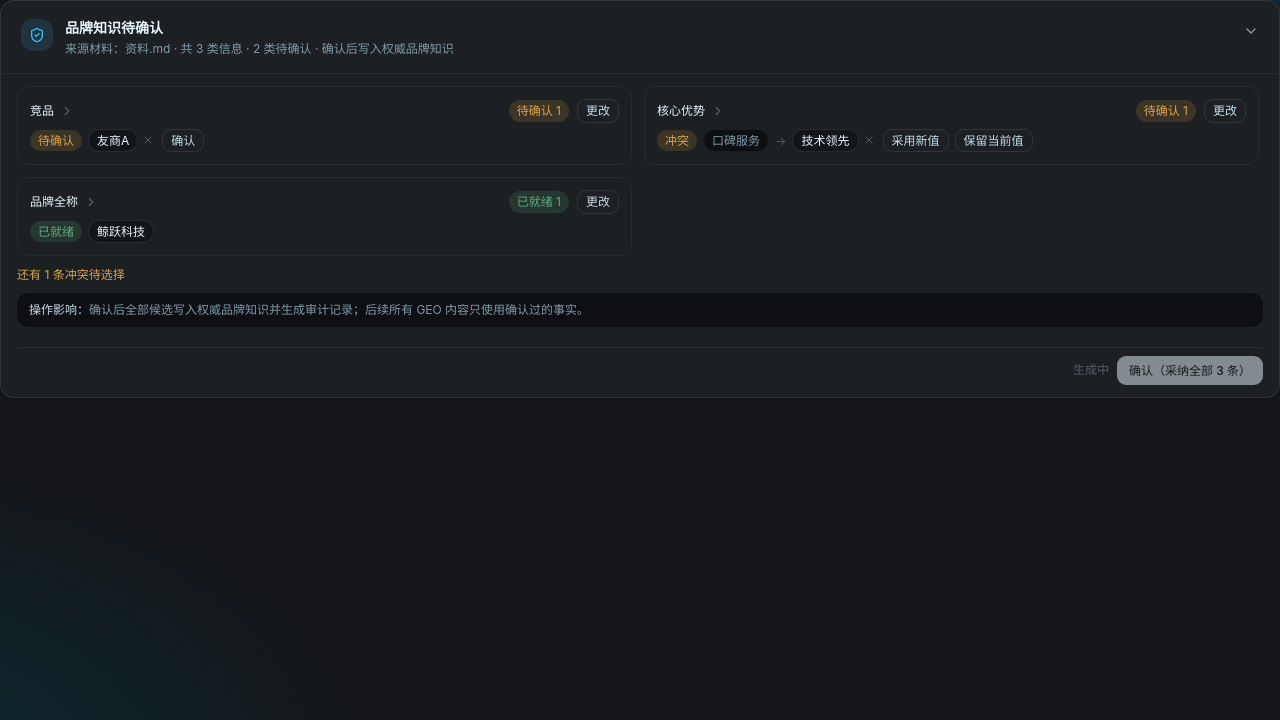
KnowledgeBatchCard（字段行复核卡） › 一次确认整卡全量采纳：未碰过的补全行也 adopt-new，冲突行按内联选择提交
The width and height of the screenshot is (1280, 720).
Click the button with aria-label "保留当前值：核心优势": (994, 140) [954,129,1032,152]
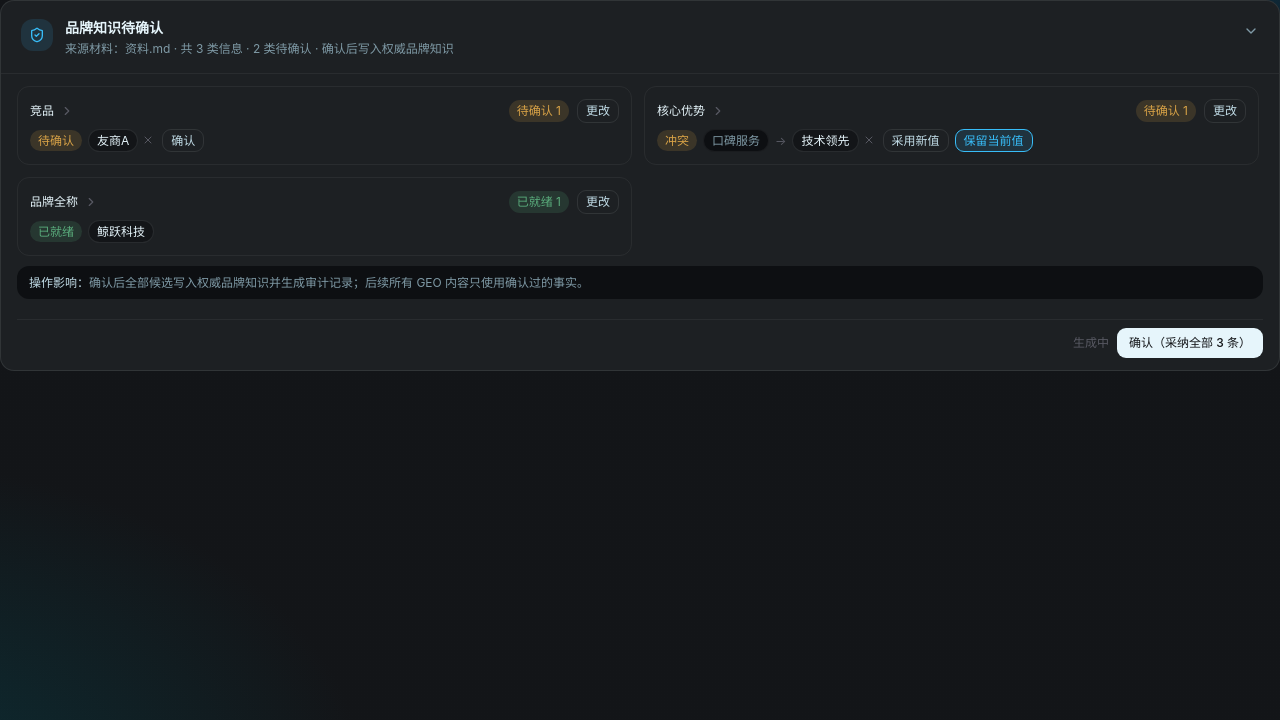
Click the button "确认（采纳全部 3 条）": (1190, 343) [1117,328,1263,358]
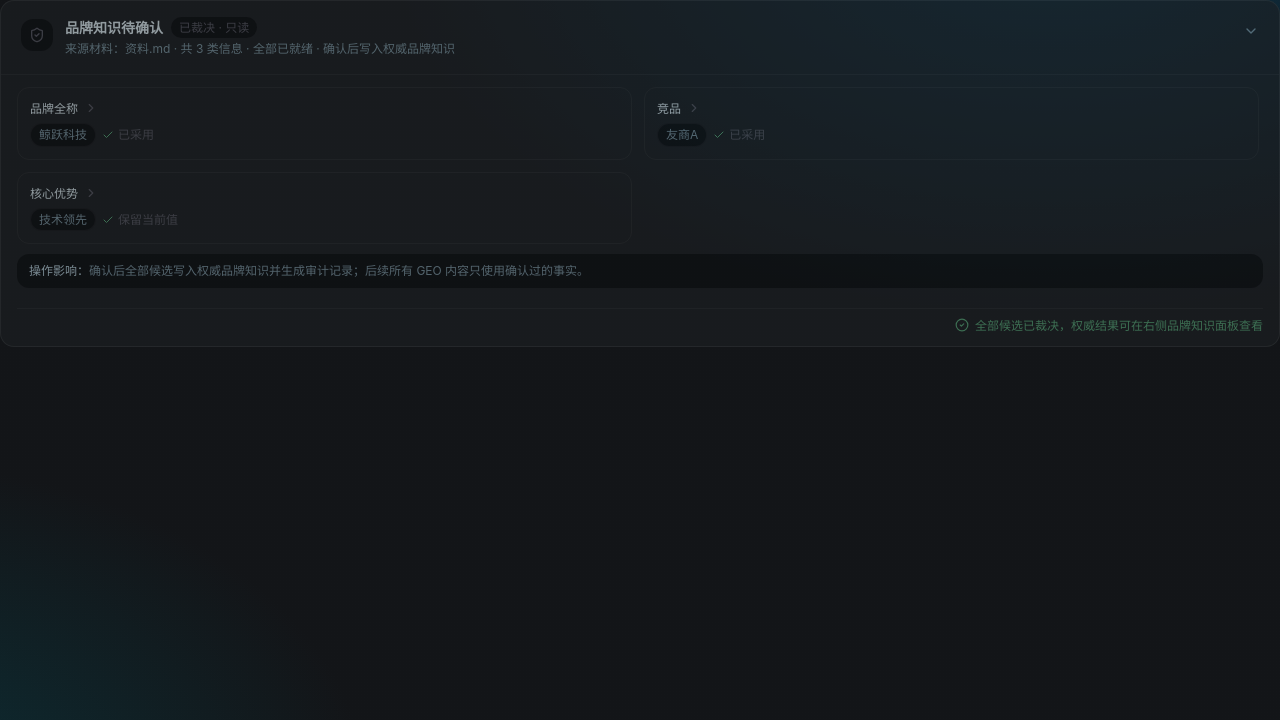
Expected: the text "全部候选已裁决，权威结果可在右侧品牌知识面板查看" is shown, [955,317,1263,334]
Expected: the text "已裁决 · 只读" is shown, [171,17,257,38]
Expected: the text "已采用" is shown 2 times, [102,126,154,144]; [713,126,765,144]
